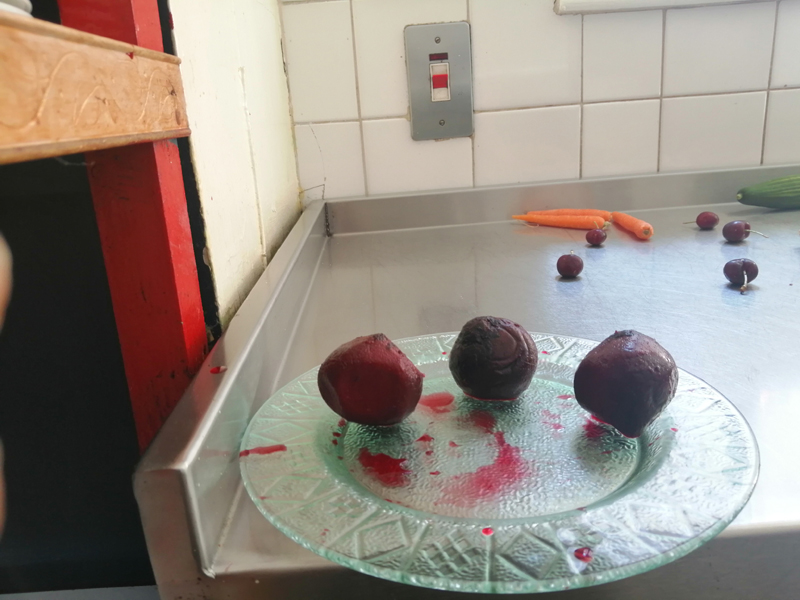beet: (567, 327, 680, 440), (310, 323, 427, 432), (446, 304, 540, 407)
cherry: (719, 250, 766, 308), (546, 249, 589, 284), (721, 220, 781, 245)
